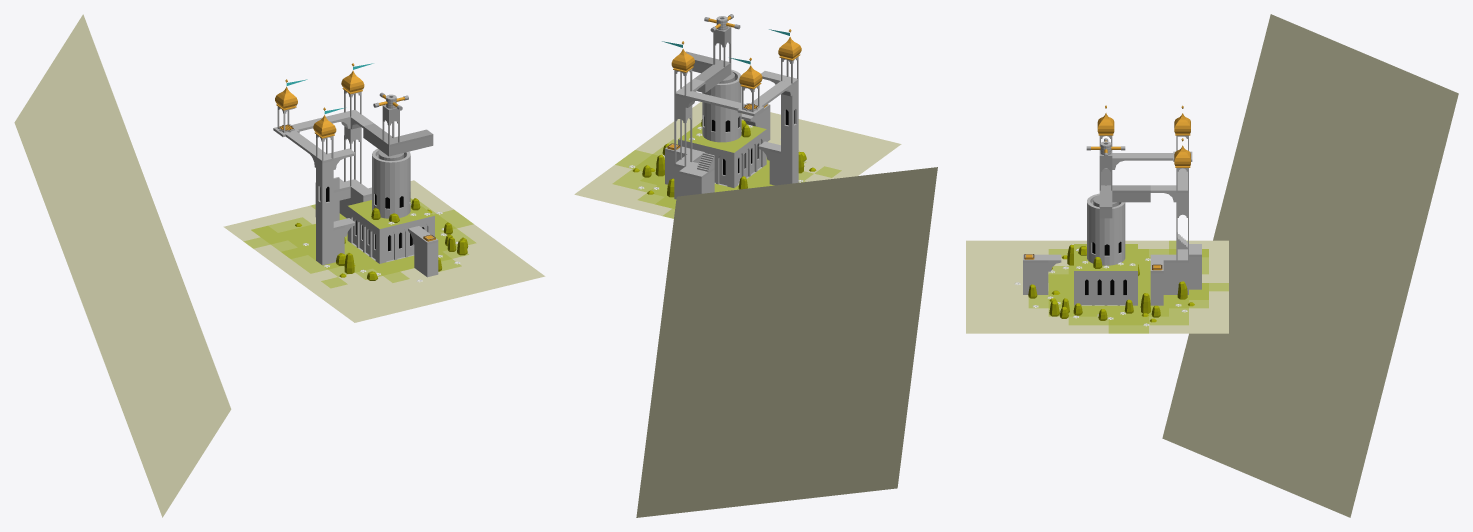
The model's file is monument_valley_scene_final.fbx.
3 views of the same model, side by side, from view 1: azimuth 30°, elevation 25°; view 2: azimuth 150°, elevation 25°; view 3: azimuth 270°, elevation 25° (orthographic).
Parts seen in each view (by area): view 1: ground.001, ground, main_platform.001, tower.001; view 2: ground.001, ground, main_platform.001, tower.001, 2_cubes_window.001; view 3: ground.001, ground, main_platform.001, tower.001.
Part boxes in pixels (x1,y1,x2,y2): ground.001: (14, 14, 231, 517); ground: (223, 180, 545, 322); main_platform.001: (347, 198, 434, 263); tower.001: (372, 148, 410, 218); ground.001: (636, 167, 937, 517); ground: (574, 102, 901, 218); main_platform.001: (678, 119, 766, 187); tower.001: (702, 69, 741, 142); 2_cubes_window.001: (781, 103, 798, 130); ground.001: (1162, 14, 1458, 517); ground: (966, 240, 1228, 333); main_platform.001: (1074, 244, 1137, 305); tower.001: (1087, 193, 1125, 265).
Bounding box in the file's own units: 3421 × 3440 × 3854.
